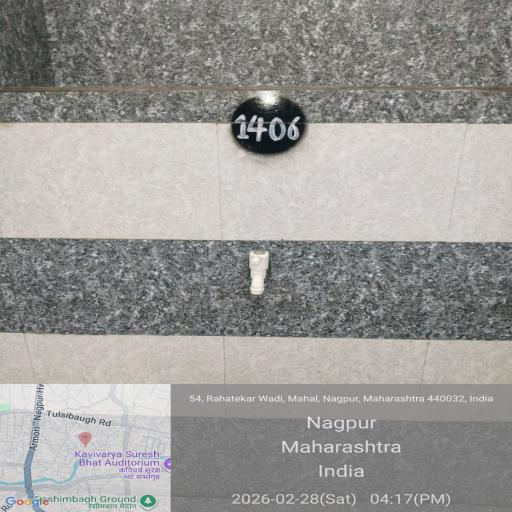clean_floor: (0, 0, 512, 362)
